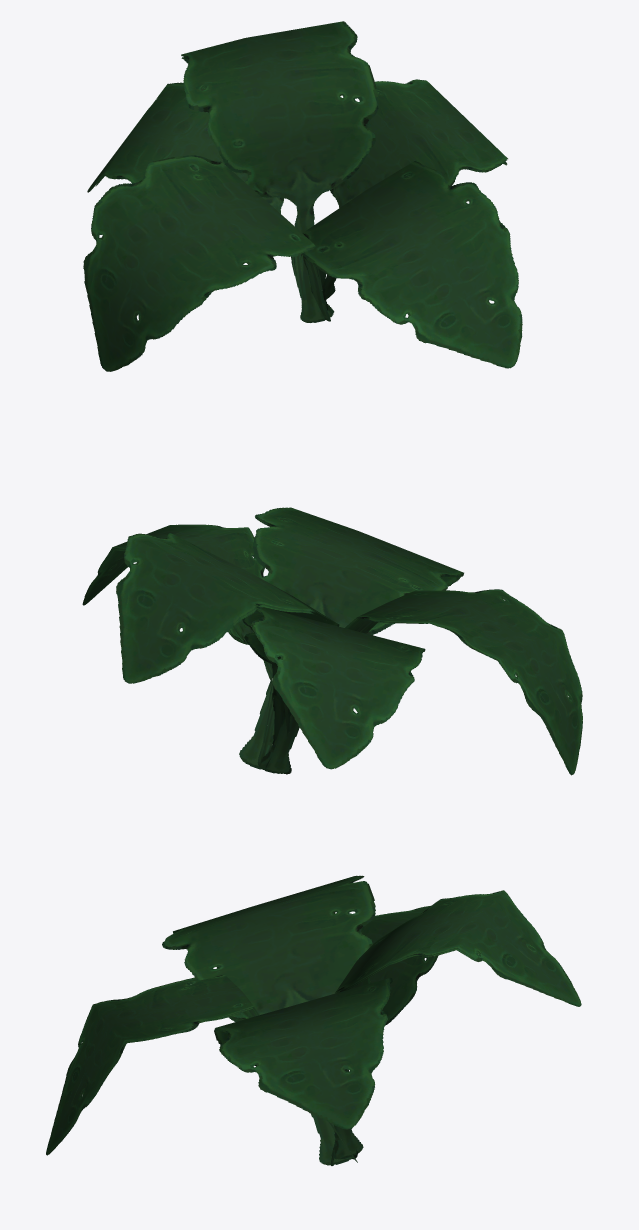
File: TPBigLeafPlantShape.dae
3 renders of one model, top to bottom at view 1: azimuth 30°, elevation 25°; view 2: azimuth 150°, elevation 25°; view 3: azimuth 270°, elevation 25°, orthographic. The views are drawn at different scales.
Parts seen in each view (by area): view 1: TPBigLeafPlant; view 2: TPBigLeafPlant; view 3: TPBigLeafPlant.
Boxes of the visible parts, x1,y1,x2,y2 form: TPBigLeafPlant: (83, 21, 522, 371); TPBigLeafPlant: (82, 507, 582, 775); TPBigLeafPlant: (46, 875, 581, 1165).
Size of the model in its own units: 4.14 by 2.41 by 4.46.
